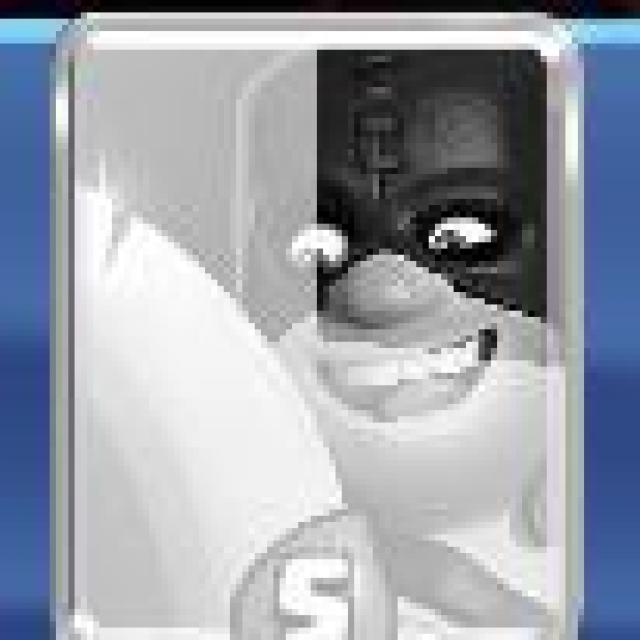Executioner: (50, 12, 586, 640)
